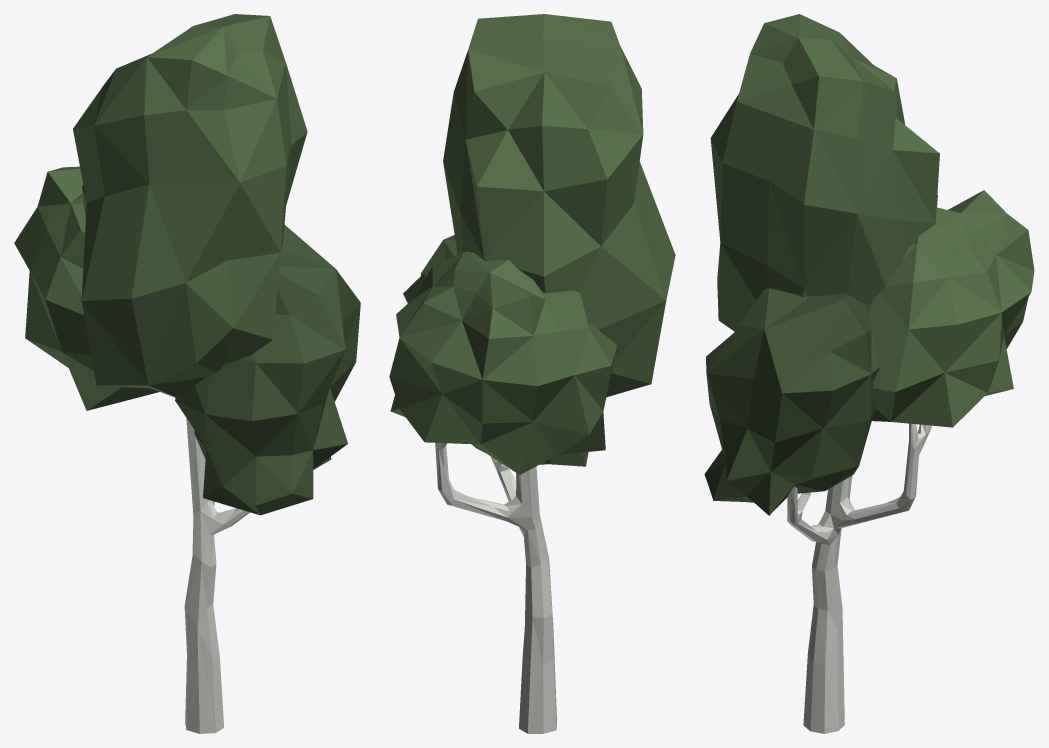
File: BirchTree_3.lod1.glb
3 renders of one model, left to right at view 1: azimuth 30°, elevation 25°; view 2: azimuth 150°, elevation 25°; view 3: azimuth 270°, elevation 25°, orthographic. The views are drawn at different scales.
Visible parts, largest first — view 1: BirchTree_3; view 2: BirchTree_3; view 3: BirchTree_3.
Part boxes in pixels (bbox=[...]): BirchTree_3: bbox=[14, 14, 360, 733]; BirchTree_3: bbox=[389, 14, 675, 733]; BirchTree_3: bbox=[704, 14, 1034, 733].
Bounding box in the file's own units: 1.58 × 4.09 × 1.77.
